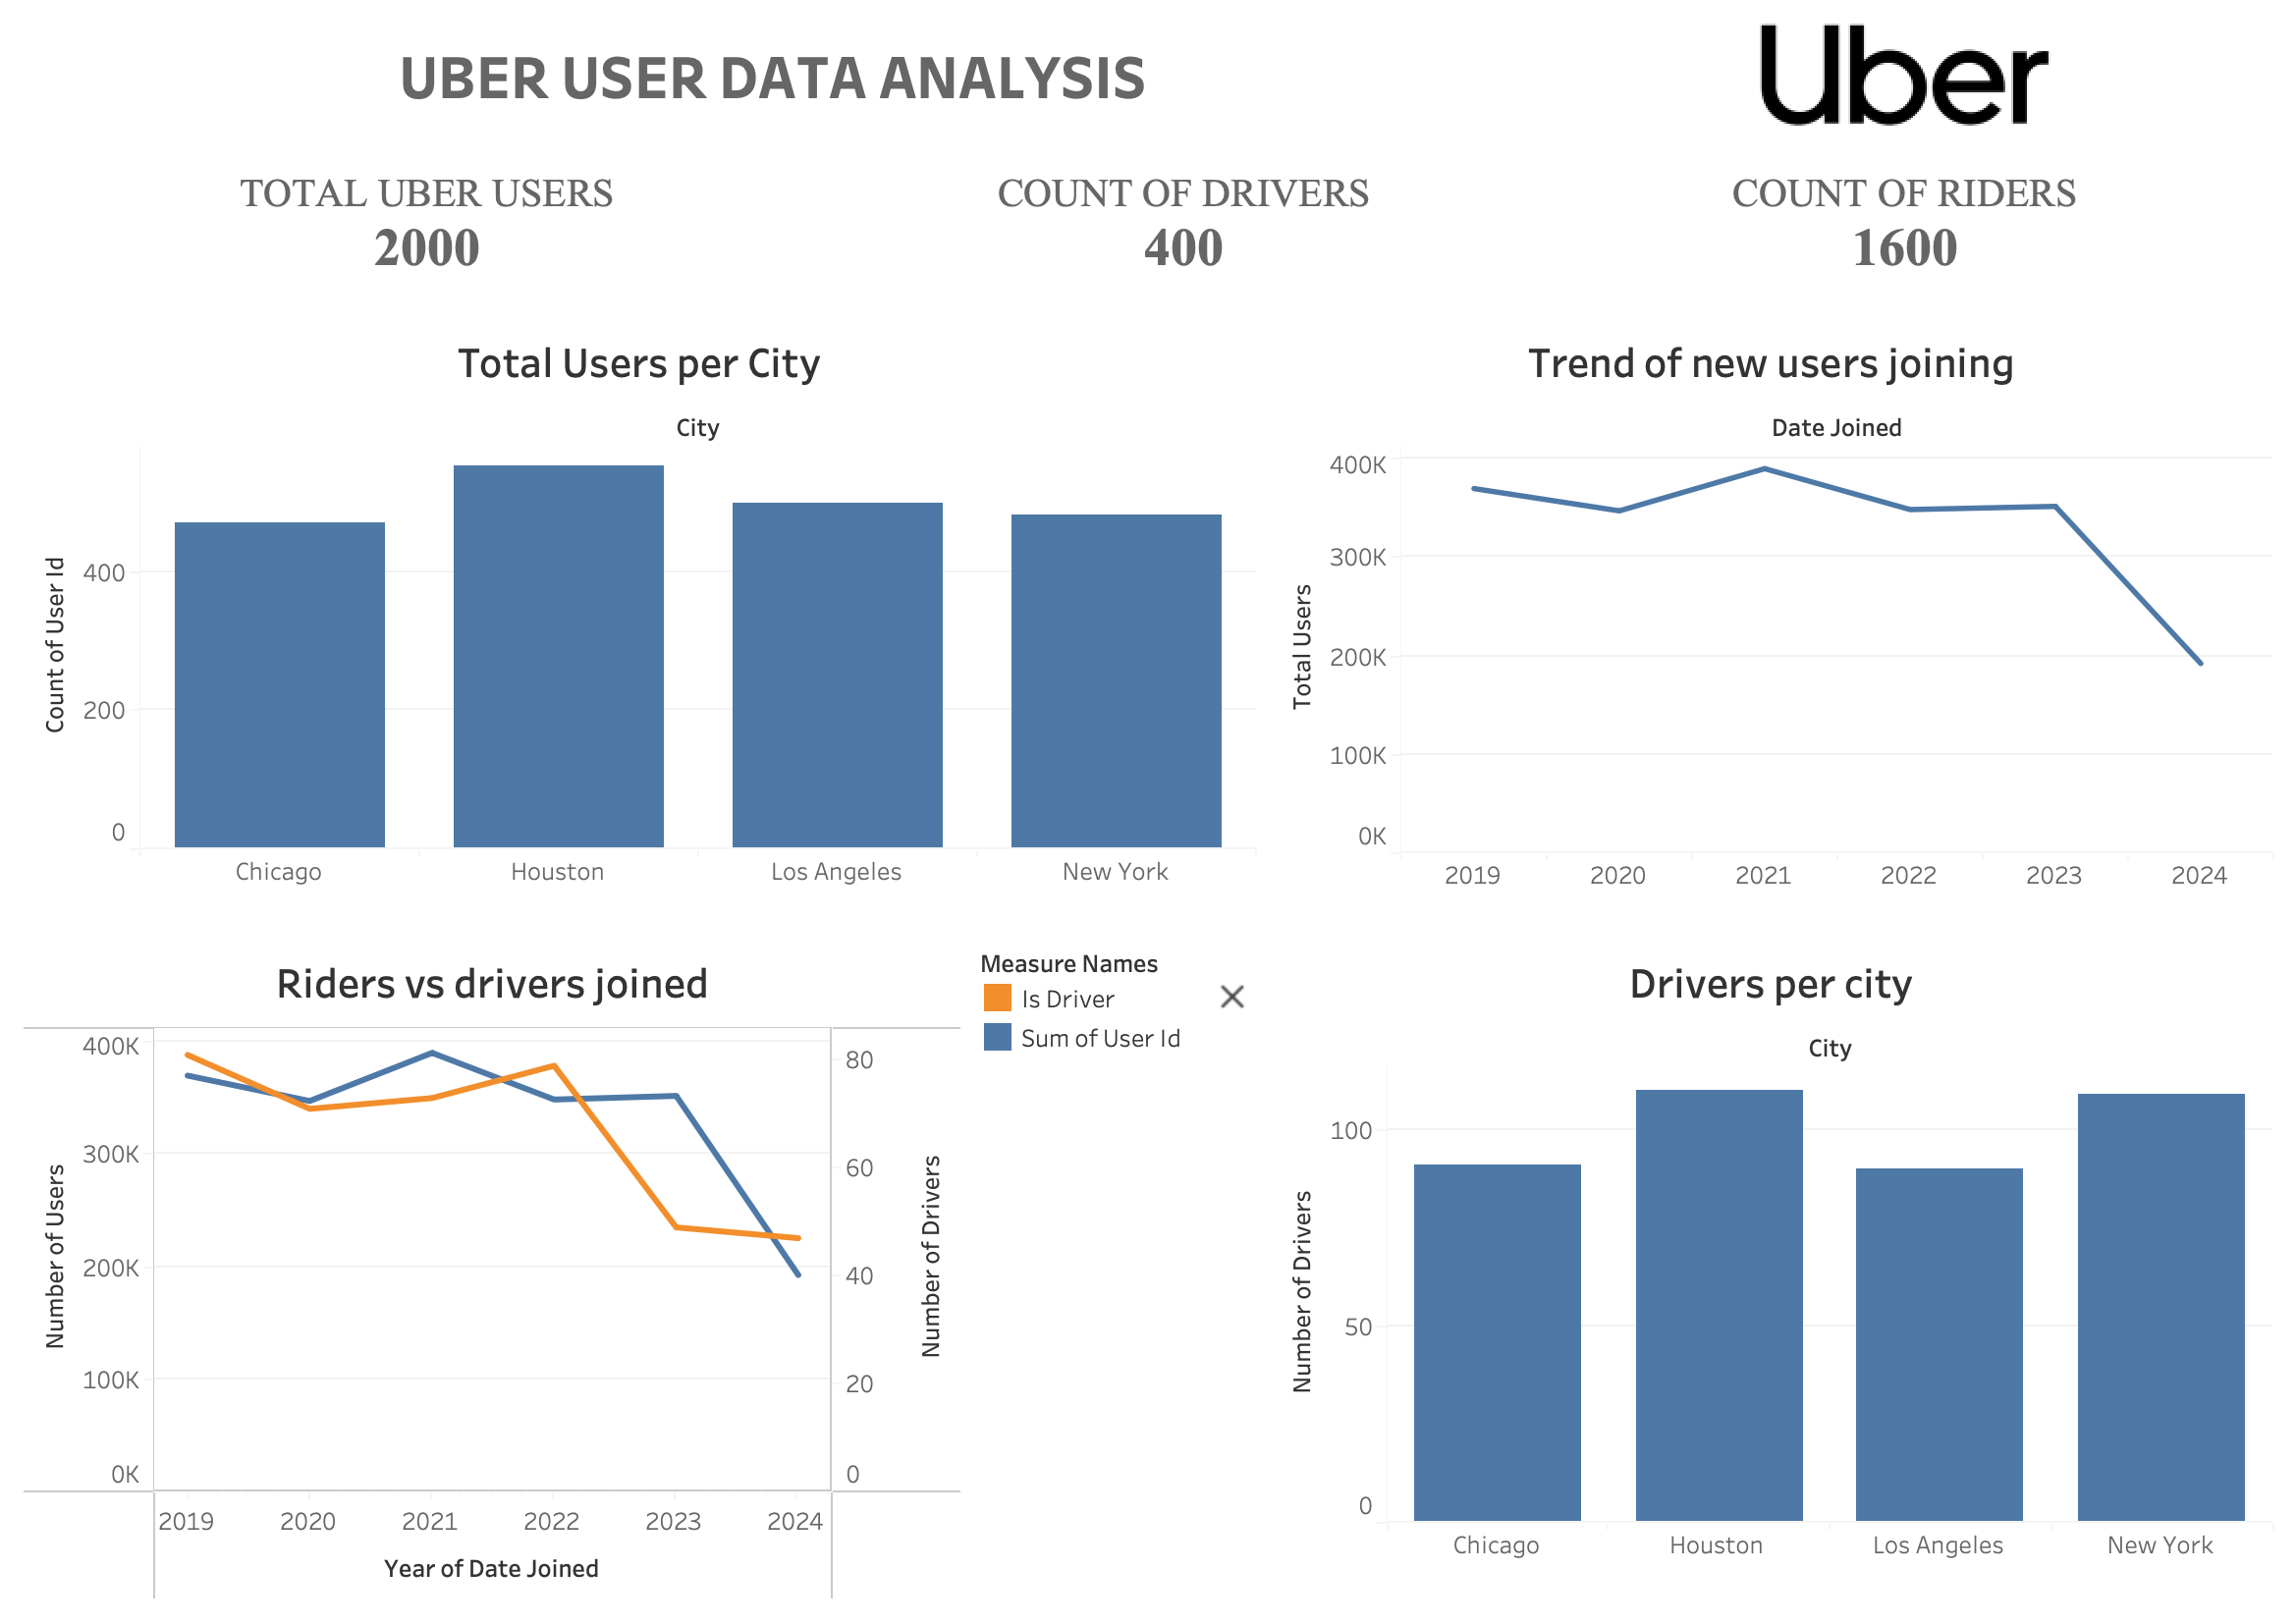

This screenshot's page, from the dashboard's own definition file:
{"tool":"tableau","page":{"name":"Dashboard 1","canvas":[1169,827],"ordinal":0},"visuals":[{"type":"text","box":[8,8,771,60]},{"type":"image","param":"/Users/apple/Downloads/images.png","box":[779,8,382,60]},{"type":"text","box":[8,68,419.5,92.1]},{"type":"text","box":[427.5,68,351.5,92.1]},{"type":"text","box":[779,68,382,92.1]},{"type":"worksheet","title":"Sheet 1","mark":"Automatic","rows":["user_id"],"cols":["city"],"box":[8,160,635.1,316.1]},{"type":"worksheet","title":"Sheet 2","mark":"Automatic","rows":["user_id"],"cols":["date_joined"],"box":[643.1,160,517.9,316.1]},{"type":"worksheet","title":"Sheet 3","mark":"Automatic","rows":["user_id","is_driver"],"cols":["date_joined"],"box":[8,476.2,486.3,342.8]},{"type":"legend","title":"Sheet 3","param":"[federated.12e63gw0d97epf114dleo1xv4u86].[:Measure Names]","box":[494.3,476.2,149,342.8]},{"type":"worksheet","title":"Sheet 4","mark":"Automatic","rows":["is_driver"],"cols":["city"],"box":[643.2,476.2,517.8,342.8]},{"type":"dashboard-object","box":[613.7,499.3,28.1,16.5]}]}

Visuals, with their boxes in screenshot pixels (x1, y1, x2, y2), scaled from the page's 1169x827 canvas onto the 2296x1624 screenshot:
text: 16,16,1530,134
image: 1530,16,2280,134
text: 16,134,840,314
text: 840,134,1530,314
text: 1530,134,2280,314
"Sheet 1" worksheet: 16,314,1263,935
"Sheet 2" worksheet: 1263,314,2280,935
"Sheet 3" worksheet: 16,935,971,1608
"Sheet 3" legend: 971,935,1264,1608
"Sheet 4" worksheet: 1263,935,2280,1608
dashboard-object: 1205,981,1261,1013
